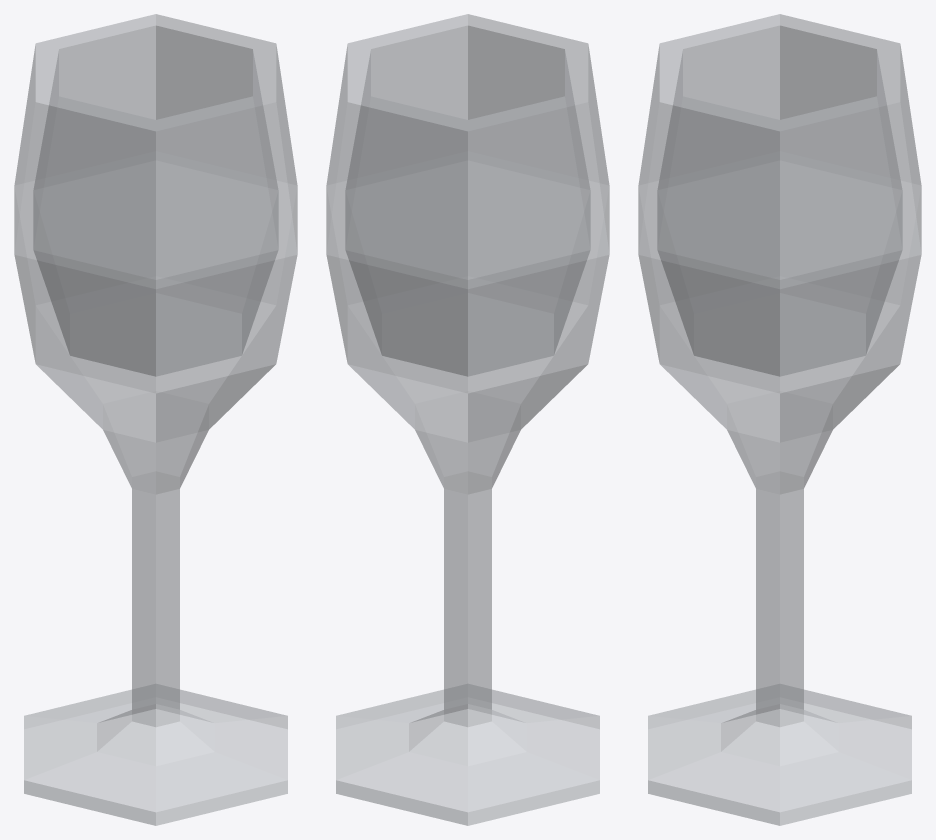
File: SM_Item_GlassCup_02.fbx
The picture shows the model from 3 angles, left to right: view 1: azimuth 30°, elevation 25°; view 2: azimuth 150°, elevation 25°; view 3: azimuth 270°, elevation 25°; orthographic projection.
Parts seen in each view (by area): view 1: SM_Item_GlassCup_02; view 2: SM_Item_GlassCup_02; view 3: SM_Item_GlassCup_02.
Boxes of the visible parts, x1,y1,x2,y2 form: SM_Item_GlassCup_02: [14, 14, 297, 825]; SM_Item_GlassCup_02: [326, 14, 609, 825]; SM_Item_GlassCup_02: [638, 14, 921, 825].
Bounding box in the file's own units: 13.95 × 32.41 × 12.08.
